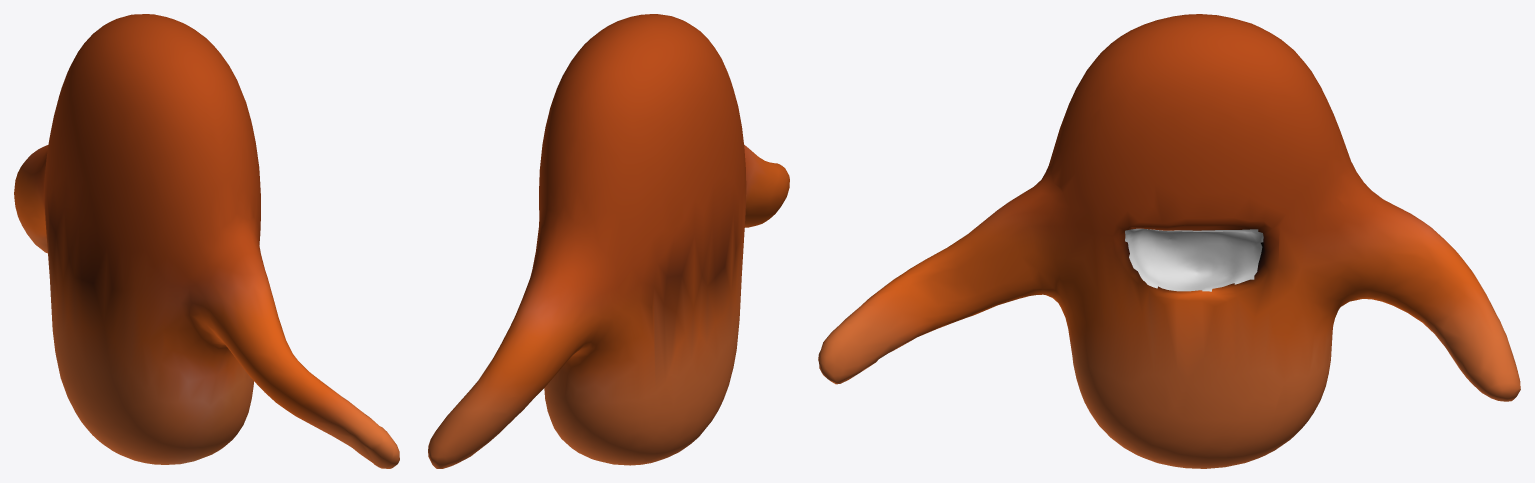
File: BodyAndMouth.fbx
3 views of the same model, side by side, from view 1: azimuth 30°, elevation 25°; view 2: azimuth 150°, elevation 25°; view 3: azimuth 270°, elevation 25° (orthographic). The views are drawn at different scales.
Parts seen in each view (by area): view 1: Body; view 2: Body; view 3: Body, Mouth.
Boxes of the visible parts, box(x1,y1,x2,y2) form: Body: box(14, 14, 399, 468); Body: box(428, 14, 789, 468); Body: box(818, 14, 1520, 468); Mouth: box(1125, 228, 1263, 291).
Bounding box in the file's own units: 124 × 337 × 489.
